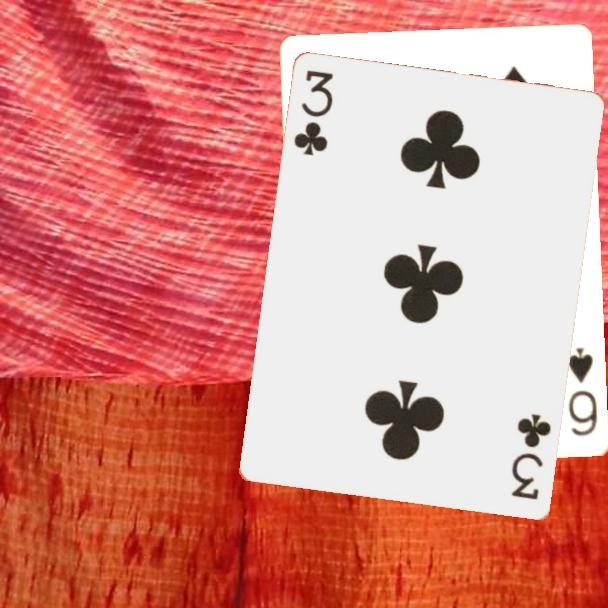c03: (508, 410, 555, 504), (290, 67, 337, 159)
s06: (565, 344, 601, 440)
